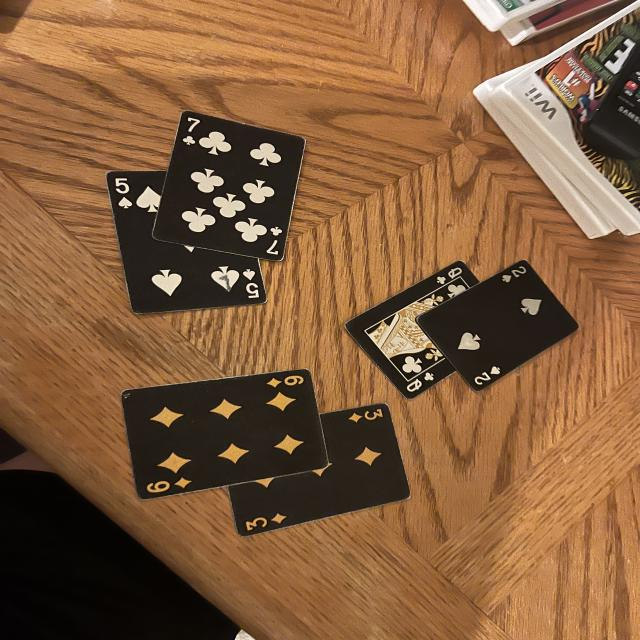2S: (470, 366, 503, 385), (500, 264, 529, 285)
3D: (242, 513, 291, 532), (349, 406, 385, 426)
5S: (111, 178, 137, 211), (240, 267, 263, 299)
6D: (144, 476, 195, 493), (266, 374, 307, 388)
7C: (182, 116, 202, 146), (265, 225, 284, 256)
QC: (404, 371, 437, 391), (433, 267, 464, 284)
